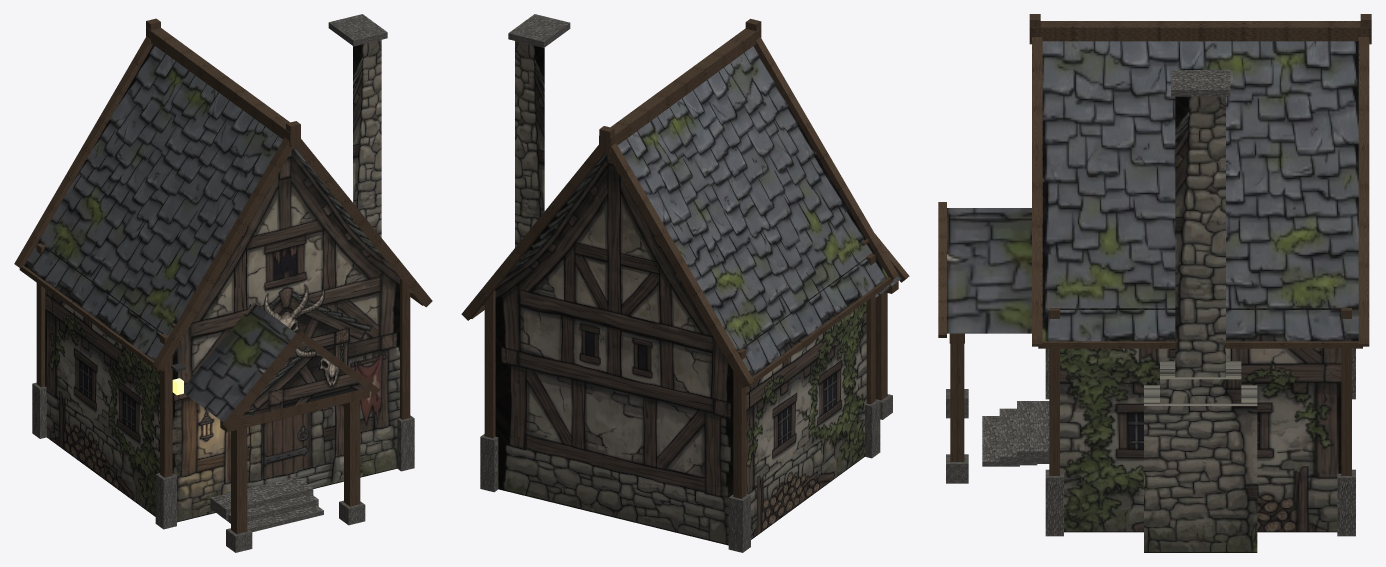
The model's file is casa_entramado_juego_1.glb.
The picture shows the model from 3 angles, left to right: view 1: azimuth 30°, elevation 25°; view 2: azimuth 150°, elevation 25°; view 3: azimuth 270°, elevation 25°; orthographic projection. The views are drawn at different scales.
Visible parts, largest first — view 1: CE_Pared_Frente, CE_Esquina_-1_-1, CE_Esquina_Piedra_-1_-1; view 2: CE_Pared_Frente, CE_Esquina_-1_-1, CE_Esquina_Piedra_-1_-1; view 3: CE_Pared_Frente, CE_Esquina_-1_-1, CE_Esquina_Piedra_-1_-1.
Boxes of the visible parts, x1,y1,x2,y2 form: CE_Pared_Frente: (24,40,412,522); CE_Esquina_-1_-1: (14,18,432,533); CE_Esquina_Piedra_-1_-1: (32,14,414,552); CE_Pared_Frente: (482,41,901,545); CE_Esquina_-1_-1: (461,18,909,498); CE_Esquina_Piedra_-1_-1: (480,14,892,552); CE_Pared_Frente: (947,41,1358,552); CE_Esquina_-1_-1: (938,14,1371,475); CE_Esquina_Piedra_-1_-1: (946,70,1355,536).
Size of the model in its own units: 7.38 by 9.42 by 8.01.
Materials: 5 (3 with a texture image).
